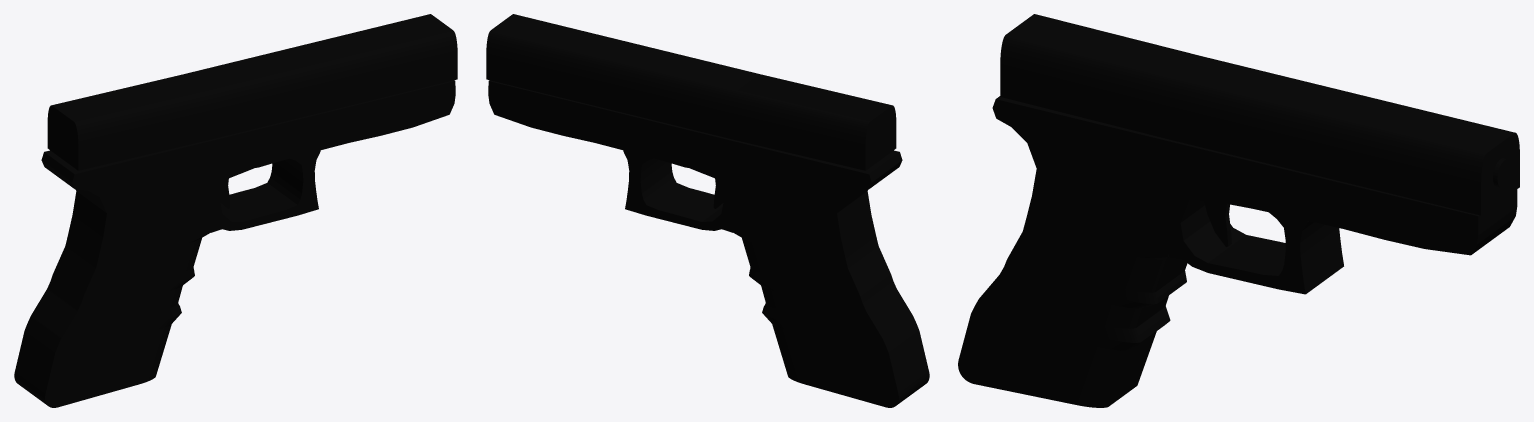
The model's file is Pistol_01.fbx.
3 views of the same model, side by side, from view 1: azimuth 30°, elevation 25°; view 2: azimuth 150°, elevation 25°; view 3: azimuth 330°, elevation 25° (orthographic). The views are drawn at different scales.
Parts seen in each view (by area): view 1: Glock_Base; view 2: Glock_Base; view 3: Glock_Base.
Part boxes in pixels (x1,y1,x2,y2): Glock_Base: [14, 14, 457, 407]; Glock_Base: [486, 14, 929, 407]; Glock_Base: [958, 14, 1519, 407].
Bounding box in the file's own units: 6.27 × 3.99 × 0.8.
